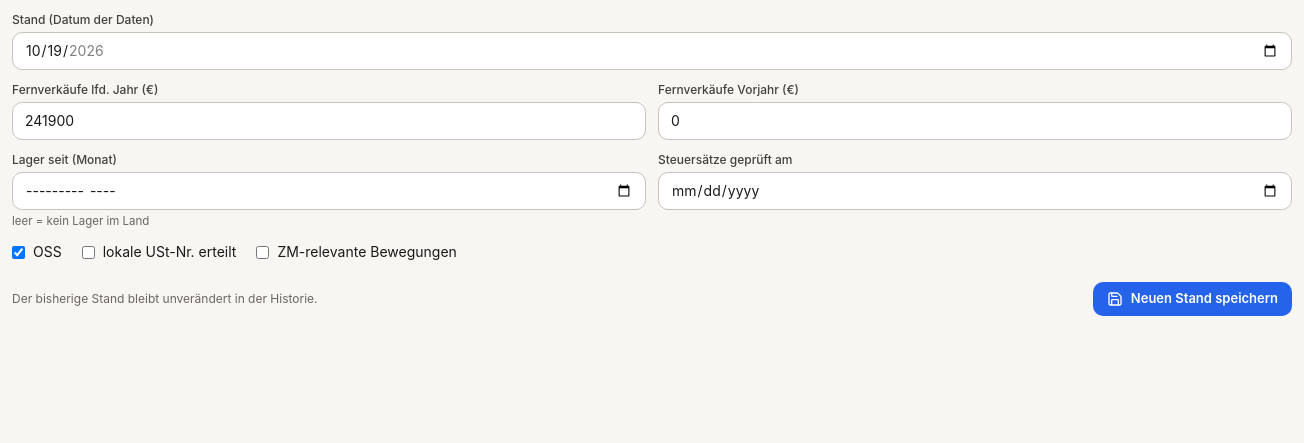
Test: LandStandFormular › Eingaben bleiben bei Feldfehlern stehen (kein automatisches Zurücksetzen)
Replace the text in the field labelled "Fernverkäufe lfd. Jahr (€)" with "1,234.56": (329, 121) [12,102,646,140]
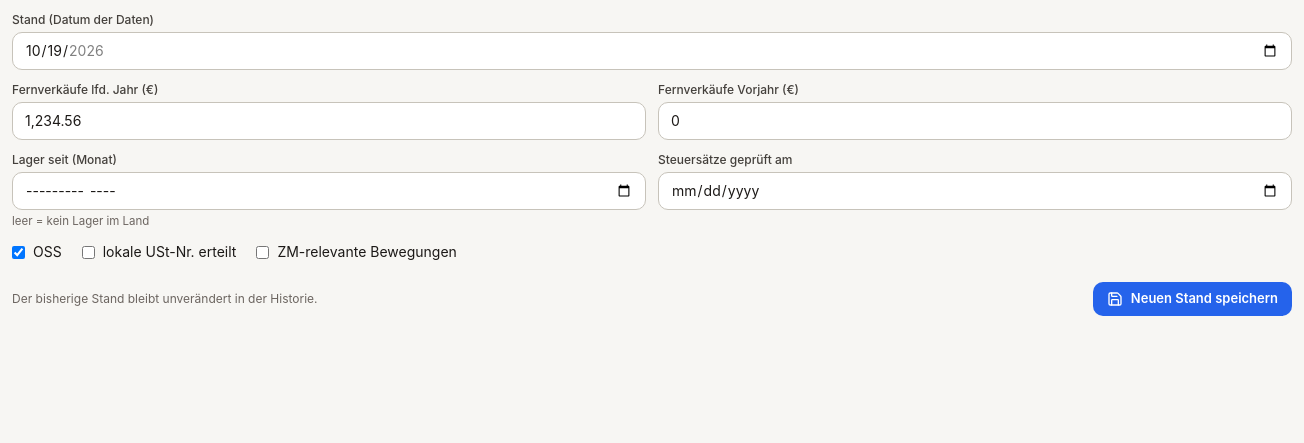
Submit the form named "Neuen Stand für FR erfassen"
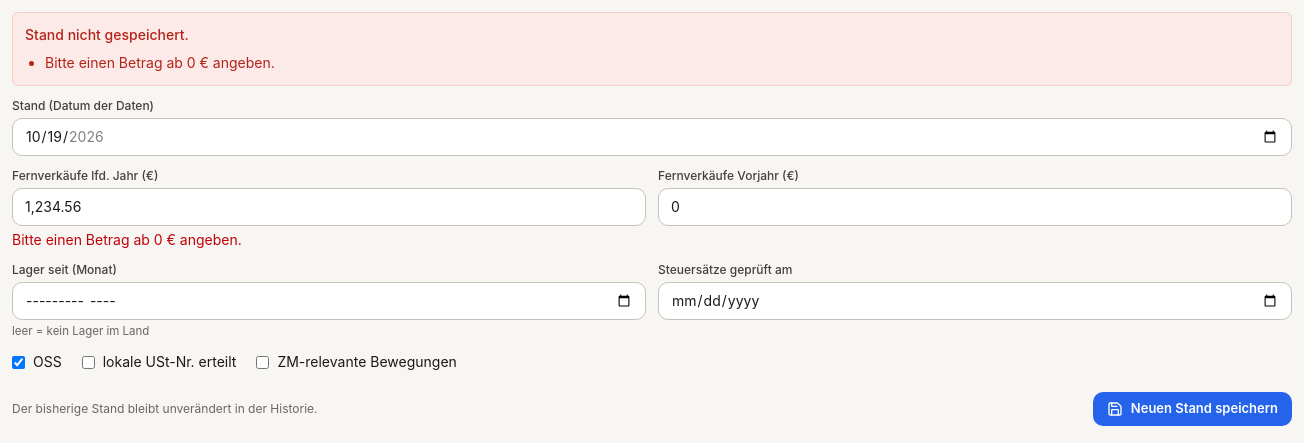
Check: the message "Stand nicht gespeichert. Bitte einen Betrag ab 0 € angeben." is shown, box [12,12,1292,86]
